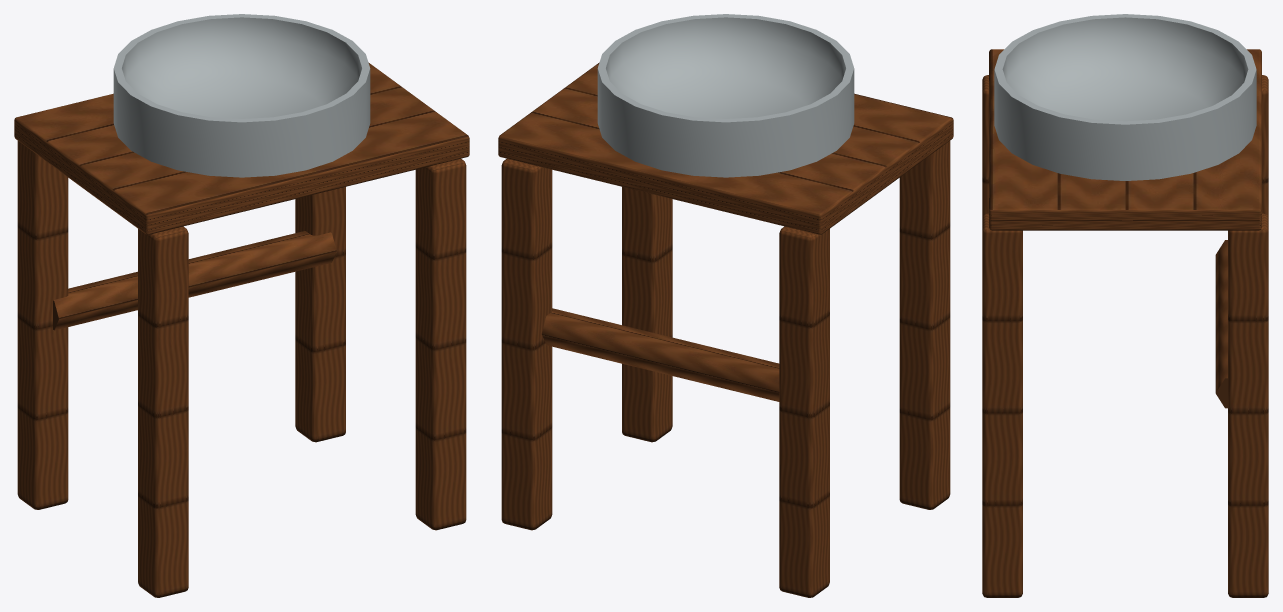
The model's file is wilderness-survival-camp-folding-washstand-3d664896__21969.glb.
3 views of the same model, side by side, from view 1: azimuth 30°, elevation 25°; view 2: azimuth 150°, elevation 25°; view 3: azimuth 270°, elevation 25° (orthographic). The views are drawn at different scales.
Parts seen in each view (by area): view 1: folding-washstand; view 2: folding-washstand; view 3: folding-washstand.
Part boxes in pixels (box(x1,y1,x2,y2)): folding-washstand: box(14, 14, 469, 597); folding-washstand: box(498, 14, 953, 597); folding-washstand: box(982, 14, 1268, 597).
Bounding box in the file's own units: 0.7 × 0.915 × 0.525.
Materials: 2 (1 with a texture image).
